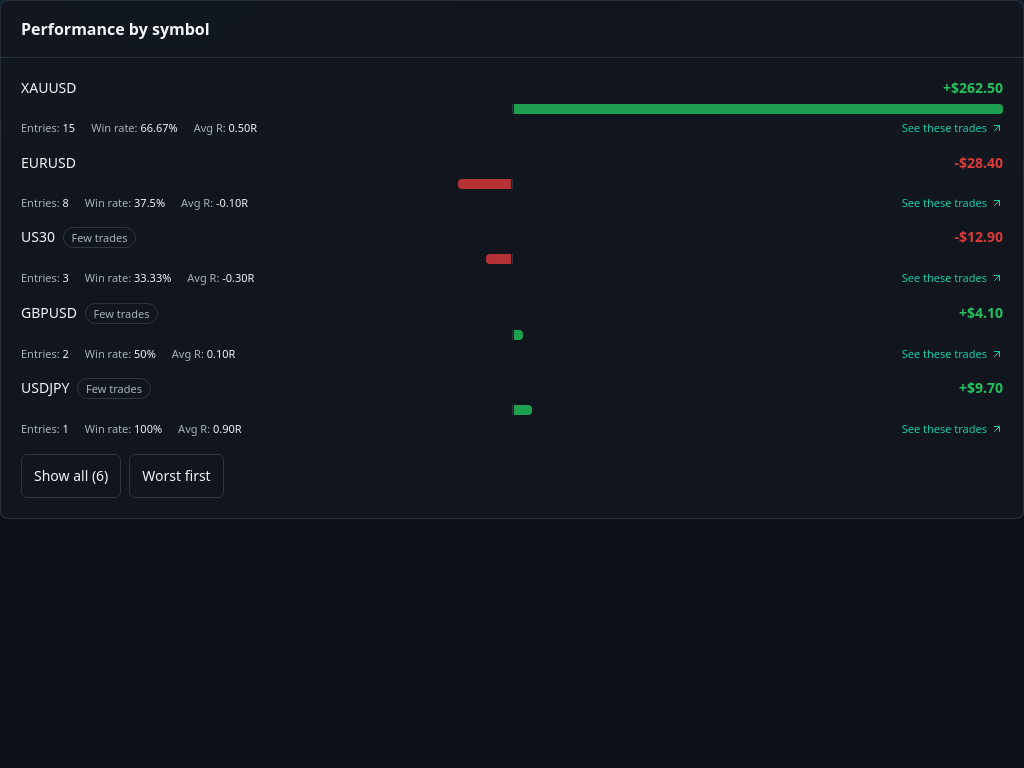
Scenario: AnalyticsBreakdown row links › gives each shown row a link that names the row, to where the page says
The image size is (1024, 768).
Expected: the number of links is 5, [902,120,1003,135]; [902,194,1003,210]; [902,270,1003,285]; [902,346,1003,360]; [902,421,1003,436]
Step 1. Click the button "Show all (6)" → {"x": 71, "y": 476}, box [21,454,121,498]
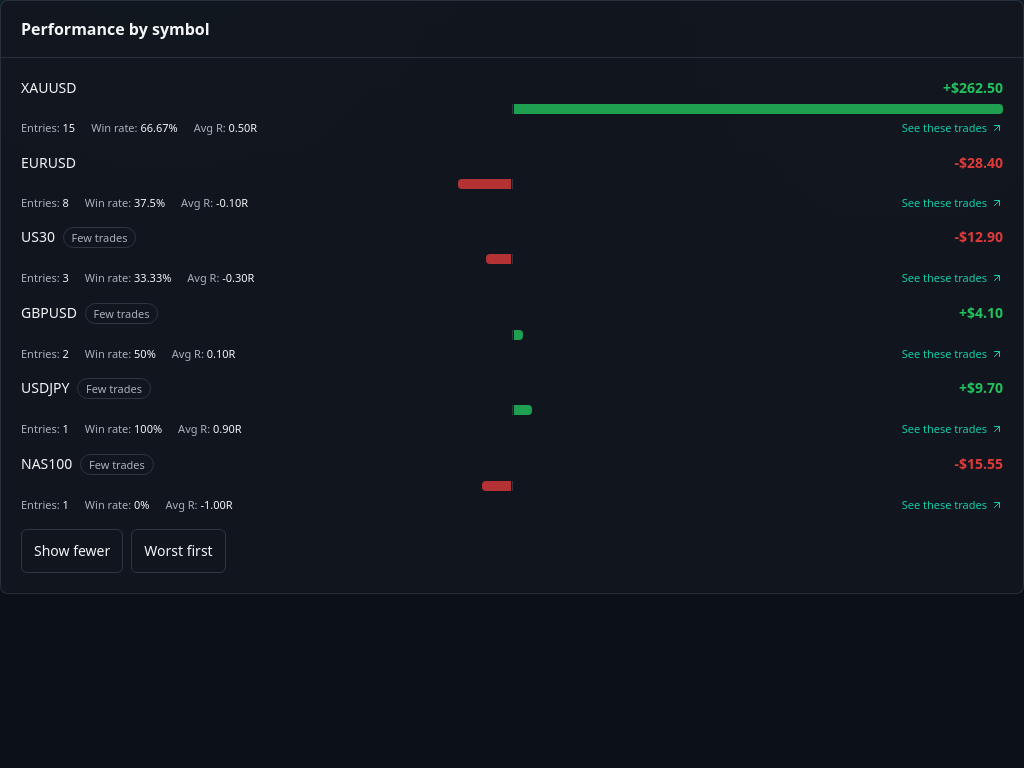
Now the number of links is 6, box [902,120,1003,135]; [902,194,1003,210]; [902,270,1003,285]; [902,346,1003,360]; [902,421,1003,436]; [902,496,1003,512]
